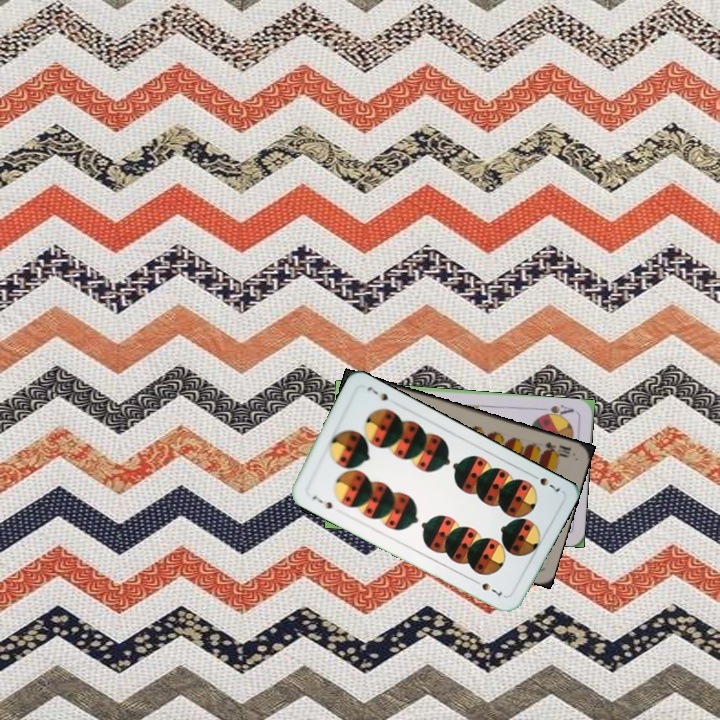E10: (540, 438, 574, 461)
S7: (526, 470, 563, 495), (308, 492, 340, 514)
SA: (537, 401, 576, 420)
